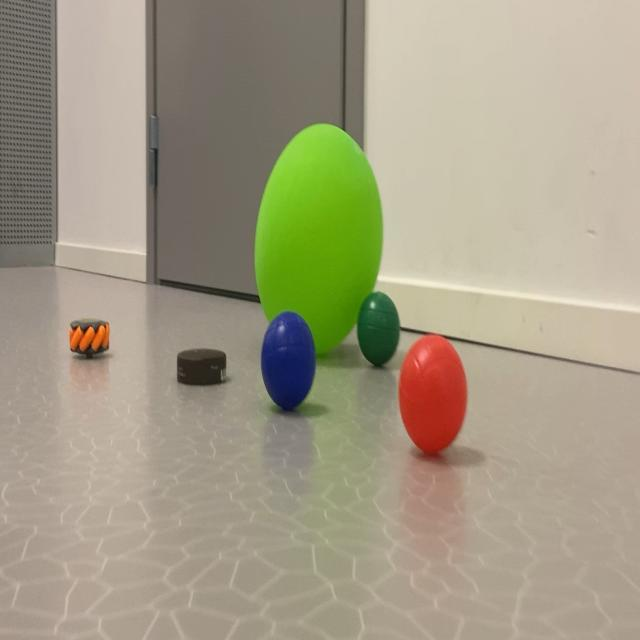blue ball: (259, 321, 317, 413)
green ball: (366, 292, 404, 371)
red ball: (414, 334, 481, 456)
